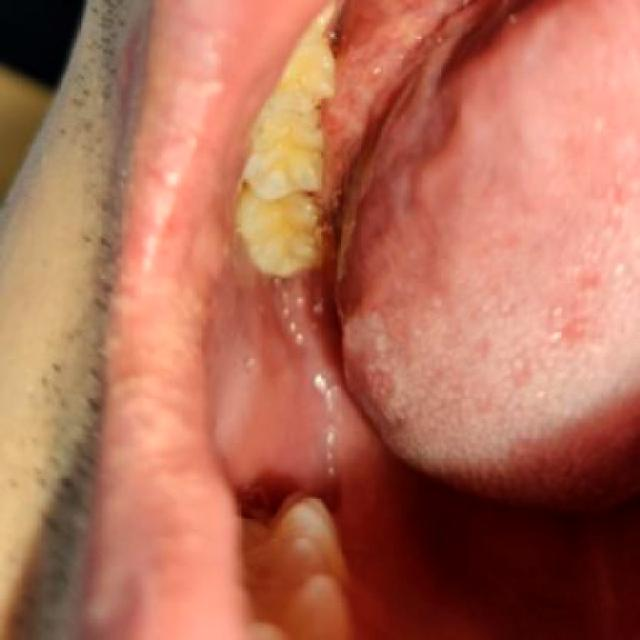Plaque: (253, 107, 320, 171)
